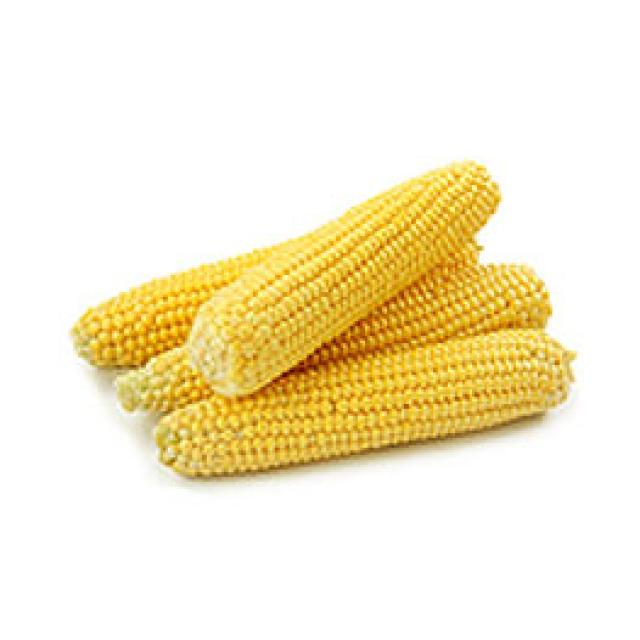corn: (188, 147, 522, 410), (150, 320, 584, 492)
